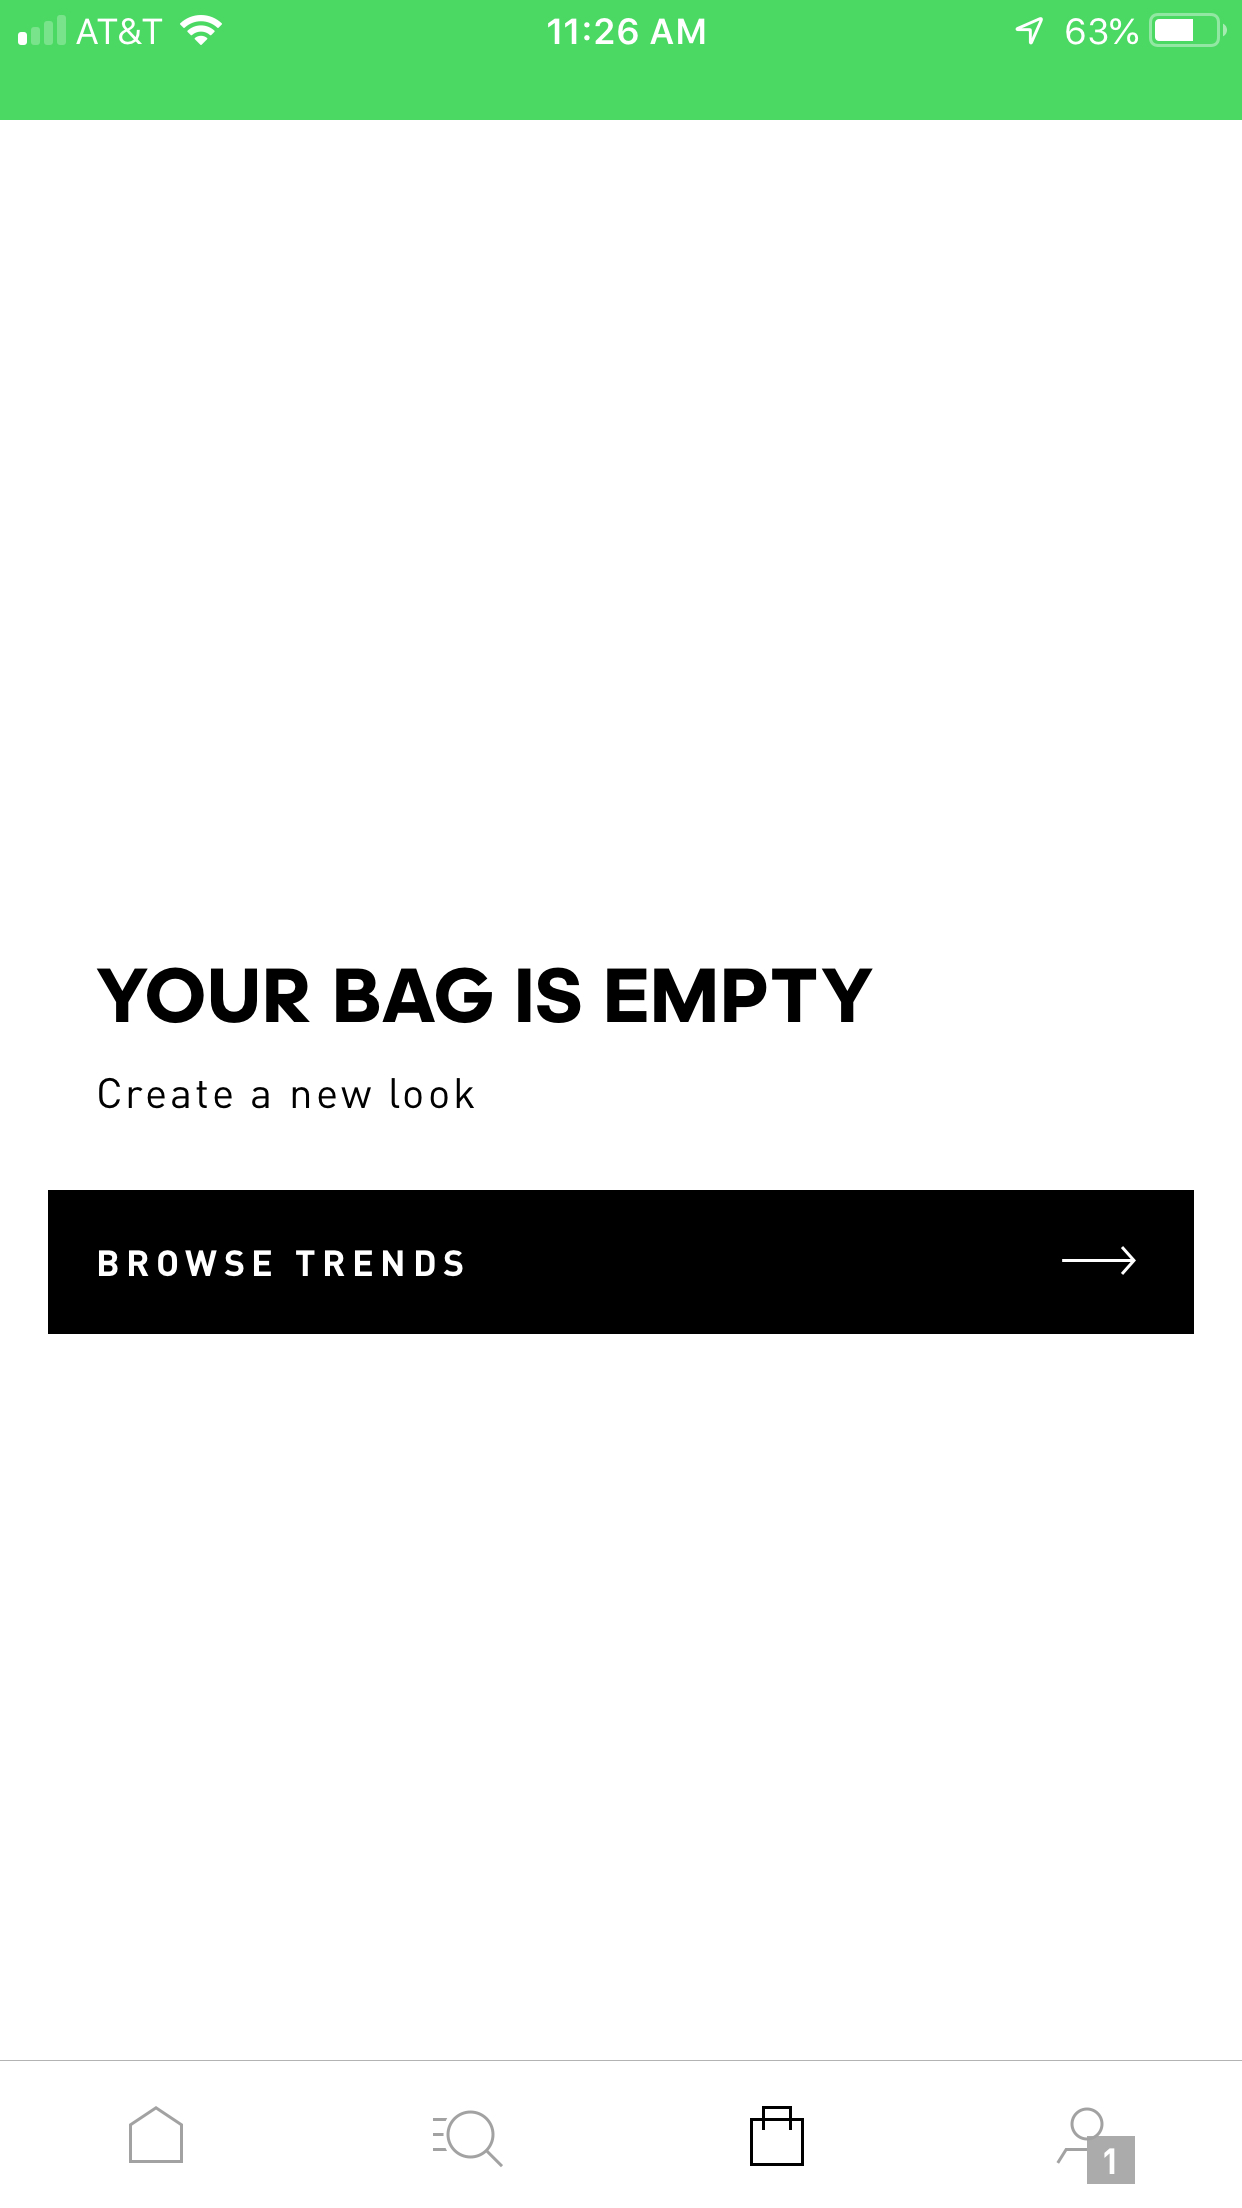Icon: (1055, 2106, 1136, 2185), (434, 2109, 505, 2169), (751, 2106, 805, 2167), (129, 2106, 183, 2164), (1062, 1247, 1136, 1275)
Text: (96, 966, 873, 1024), (99, 1078, 475, 1110)
TextButton: (49, 1190, 1193, 1335)
UpperTaskBar: (2, 2, 1242, 49)
